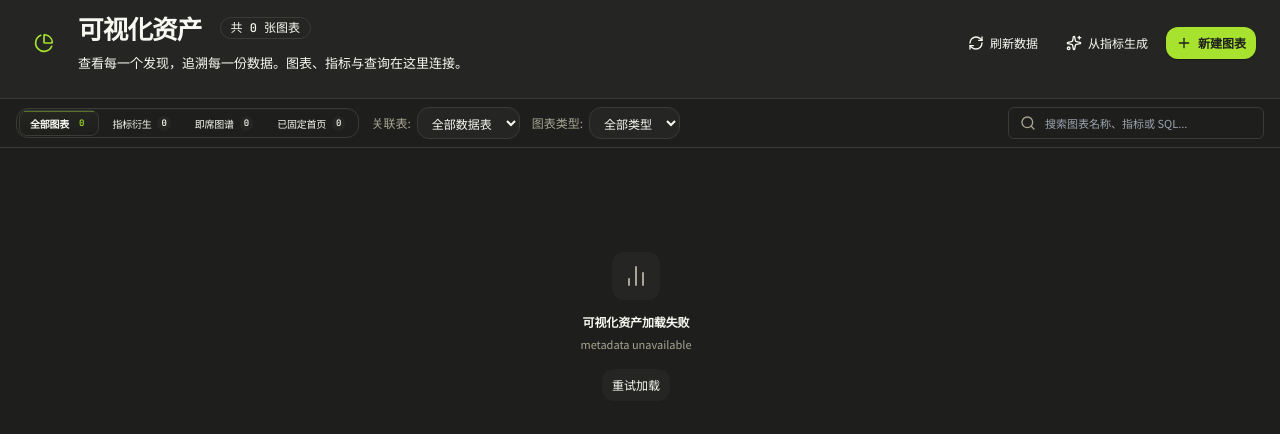
Test: VisualizationWorkbench › distinguishes asset loading failures from an empty asset library and retries
The image size is (1280, 434).
Expected: the heading "可视化资产加载失败" is shown, [582, 314, 689, 330]
Expected: the text "暂无可视化图表资产" is not shown
Click the button "重试加载" at (636, 385), box [602, 369, 670, 401]
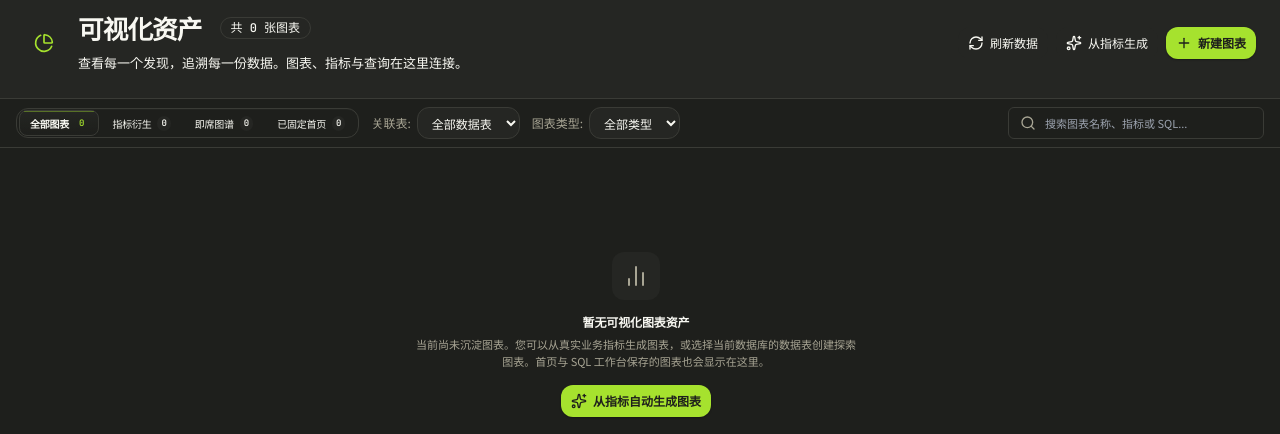
Result: the heading "暂无可视化图表资产" is shown at [582, 314, 689, 330]
